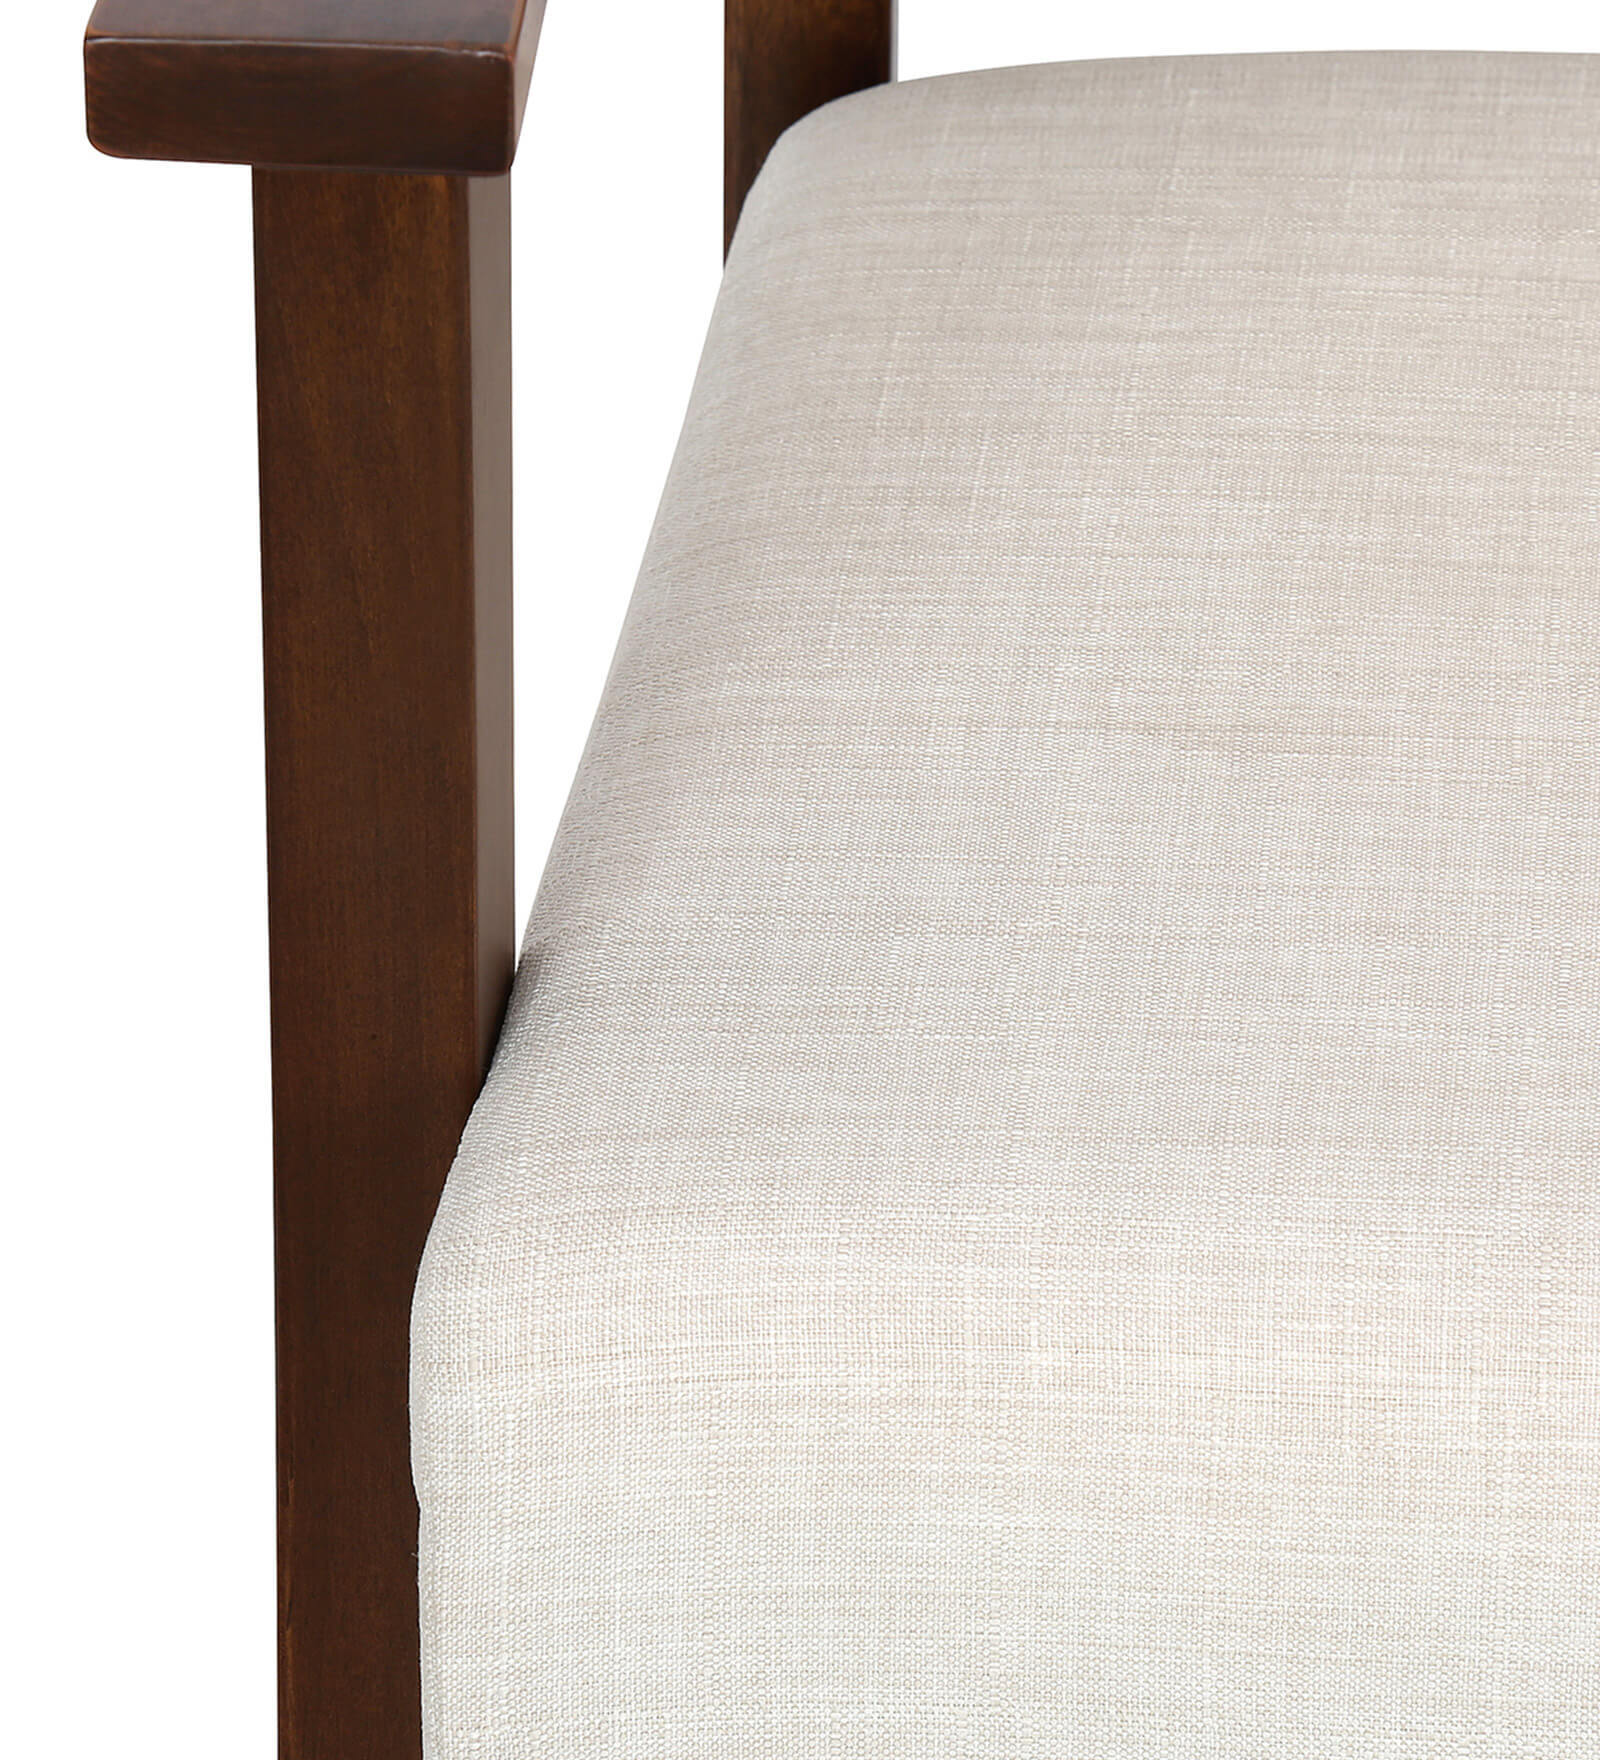Zinnia Arm Chair in Beige Colour by @ Home: (61, 15, 1592, 1702)
